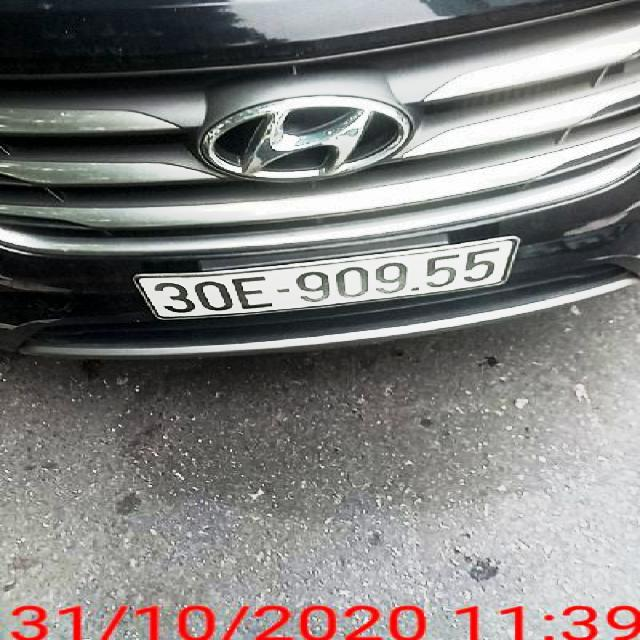license_plate: (134, 240, 519, 323)
